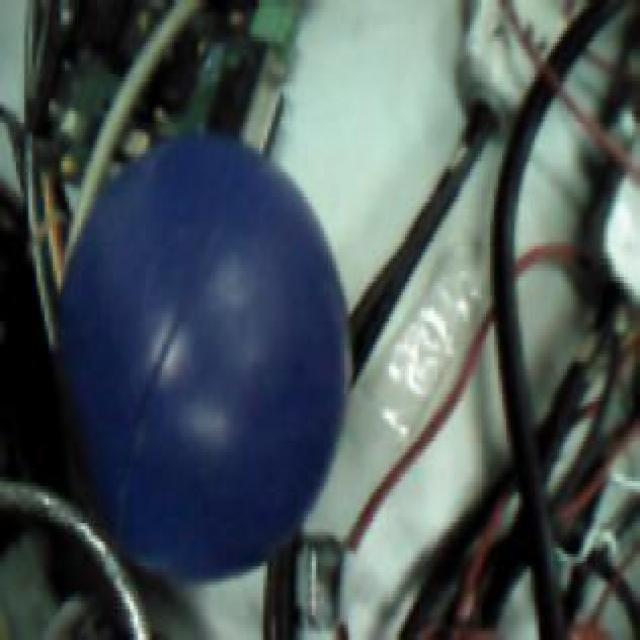BallPurple: (63, 139, 350, 582)
